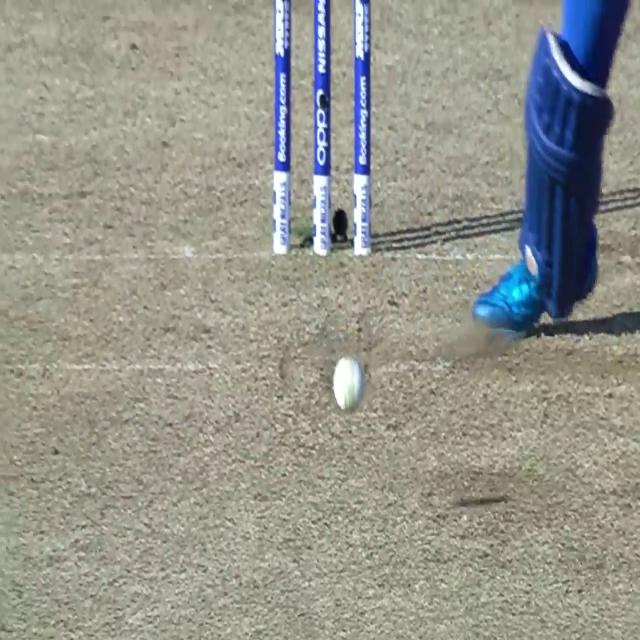ball: (331, 356, 364, 412)
